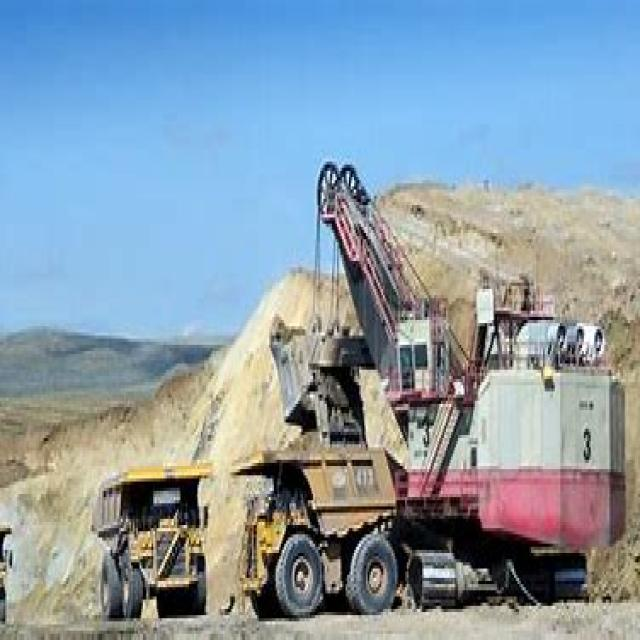dump_truck: (232, 438, 402, 625), (78, 438, 213, 621)
